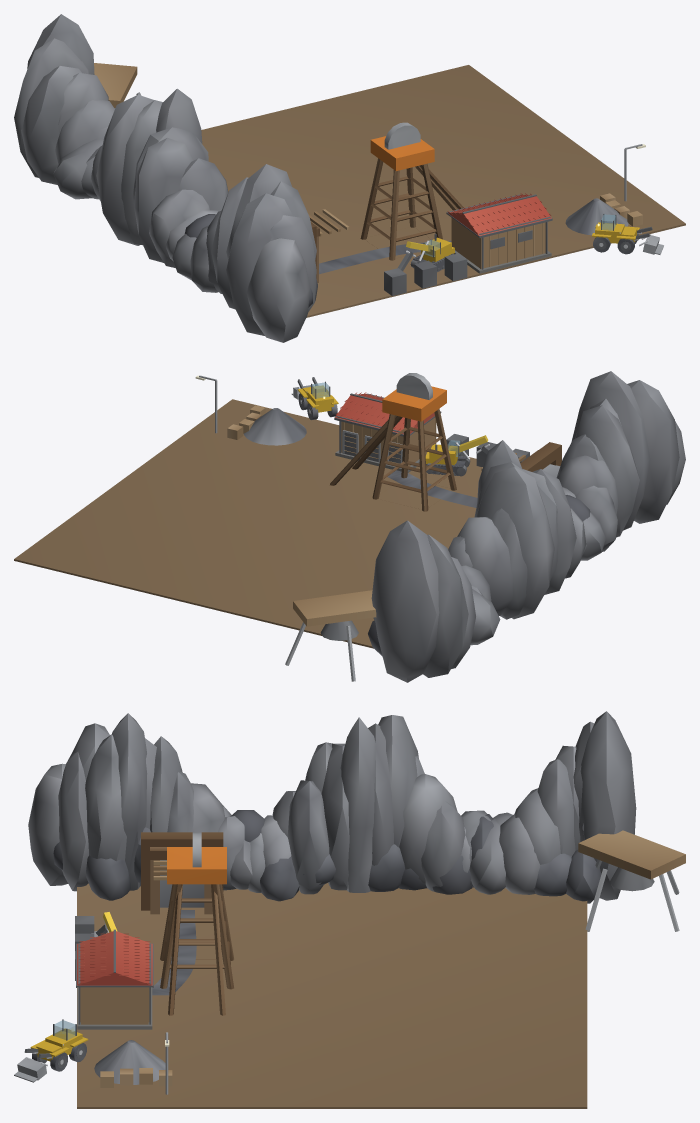
Rendered from Mine_P1.fbx.
3 renders of one model, top to bottom at view 1: azimuth 30°, elevation 25°; view 2: azimuth 150°, elevation 25°; view 3: azimuth 270°, elevation 25°, orthographic. The views are drawn at different scales.
Visible parts, largest first — view 1: Mine.Apron, Mine.Cliff, Mine.Winder, Mine.Headframe, Mine.Clutter, Mine.Loader, Mine.LoadGantry, Mine.Spoil0, Mine.Excav, Mine.Track0, Mine.Adit0; view 2: Mine.Apron, Mine.Cliff, Mine.Headframe, Mine.Winder, Mine.LoadGantry, Mine.Spoil0, Mine.Excav, Mine.Loader, Mine.Clutter, Mine.Adit0, Mine.Track0; view 3: Mine.Apron, Mine.Cliff, Mine.Winder, Mine.Headframe, Mine.LoadGantry, Mine.Adit0, Mine.Loader, Mine.Spoil0, Mine.Clutter, Mine.Track0.
Part boxes in pixels (box(x1,y1,x2,y2)): Mine.Apron: box(201, 65, 685, 317); Mine.Cliff: box(14, 14, 317, 342); Mine.Winder: box(446, 193, 552, 273); Mine.Headframe: box(360, 122, 463, 260); Mine.Clutter: box(384, 193, 642, 295); Mine.Loader: box(592, 214, 663, 254); Mine.LoadGantry: box(94, 63, 140, 108); Mine.Spoil0: box(565, 198, 628, 235); Mine.Excav: box(397, 233, 454, 272); Mine.Track0: box(319, 240, 451, 274); Mine.Adit0: box(308, 209, 349, 282); Mine.Apron: box(14, 399, 481, 648); Mine.Cliff: box(368, 371, 685, 682); Mine.Headframe: box(330, 373, 456, 511); Mine.Winder: box(334, 392, 441, 472); Mine.LoadGantry: box(285, 590, 376, 681); Mine.Spoil0: box(244, 408, 306, 445); Mine.Excav: box(425, 435, 490, 476); Mine.Loader: box(291, 377, 338, 420); Mine.Clutter: box(227, 405, 529, 467); Mine.Adit0: box(481, 442, 561, 477); Mine.Track0: box(387, 470, 477, 507); Mine.Apron: box(77, 883, 587, 1108); Mine.Cliff: box(28, 711, 636, 903); Mine.Winder: box(76, 929, 153, 1029); Mine.Headframe: box(160, 832, 233, 1015); Mine.LoadGantry: box(578, 830, 685, 931); Mine.Adit0: box(141, 832, 223, 914); Mine.Loader: box(14, 1019, 88, 1082); Mine.Spoil0: box(94, 1040, 165, 1084); Mine.Clutter: box(75, 916, 172, 1087); Mine.Track0: box(152, 910, 196, 995).
Size of the model in its own units: 8154 by 2849 by 8959.
